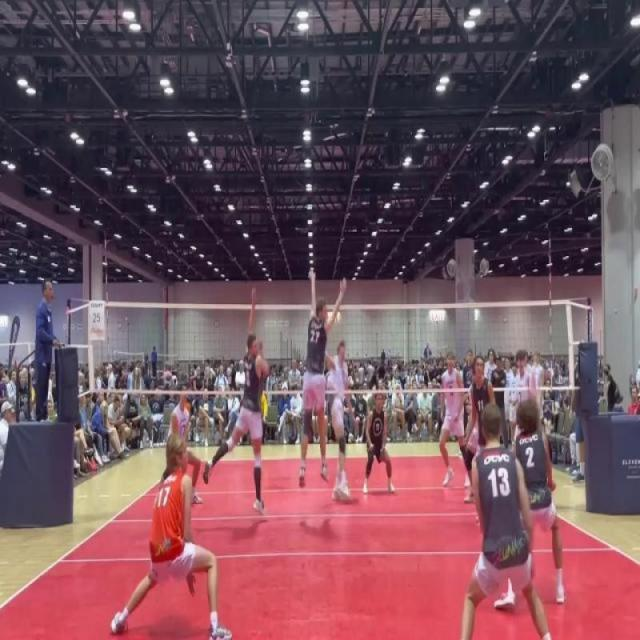volleyball: (525, 363, 543, 398)
